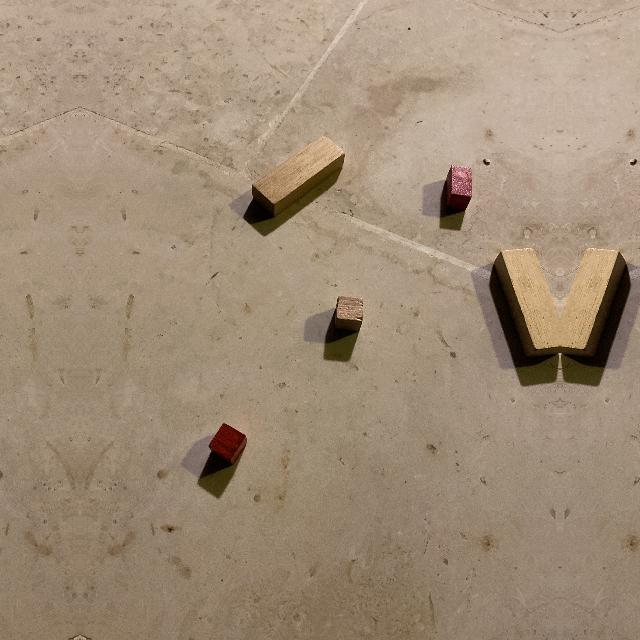cube: (334, 296, 363, 332)
jenga: (252, 136, 345, 217), (494, 248, 560, 359), (560, 248, 626, 359)
red cube: (440, 165, 472, 213), (209, 423, 246, 462)
